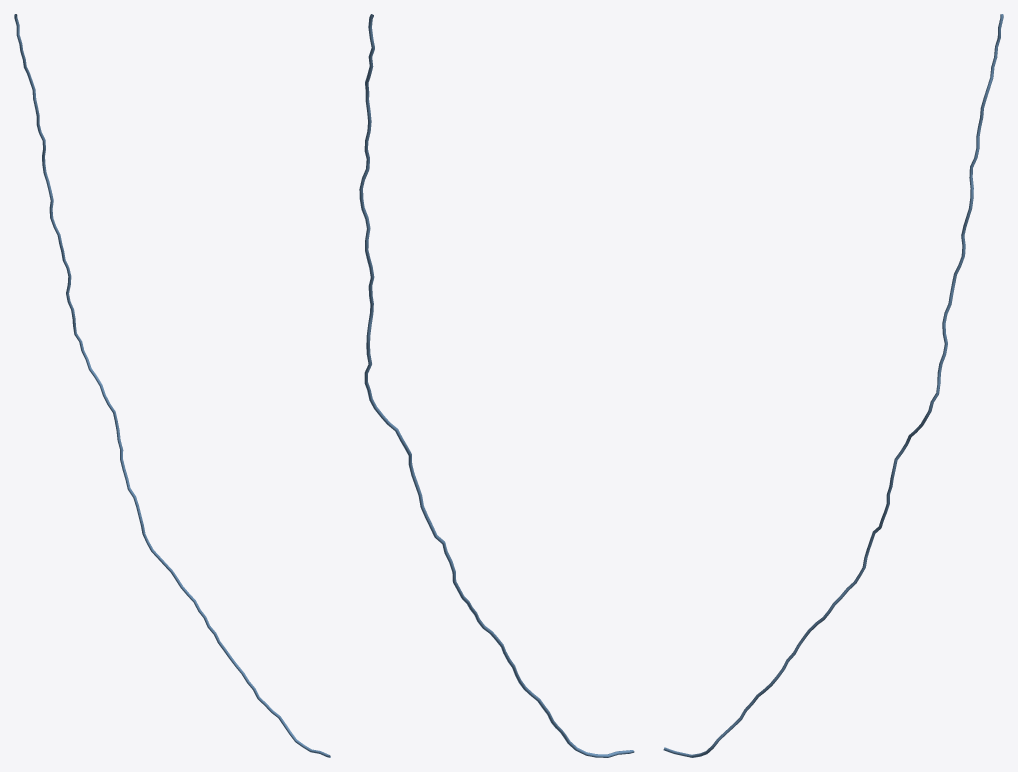
Rendered from sweep328.fbx.
3 renders of one model, left to right at view 1: azimuth 90°, elevation 25°; view 2: azimuth 150°, elevation 25°; view 3: azimuth 270°, elevation 25°, orthographic. The views are drawn at different scales.
Parts seen in each view (by area): view 1: sweep328; view 2: sweep328; view 3: sweep328.
Part boxes in pixels (left/top/right/bottom): sweep328: left=14, top=14, right=330, bottom=757; sweep328: left=359, top=14, right=634, bottom=757; sweep328: left=663, top=14, right=1003, bottom=757.
Bounding box in the file's own units: 0.7186 × 5.03 × 2.02.
